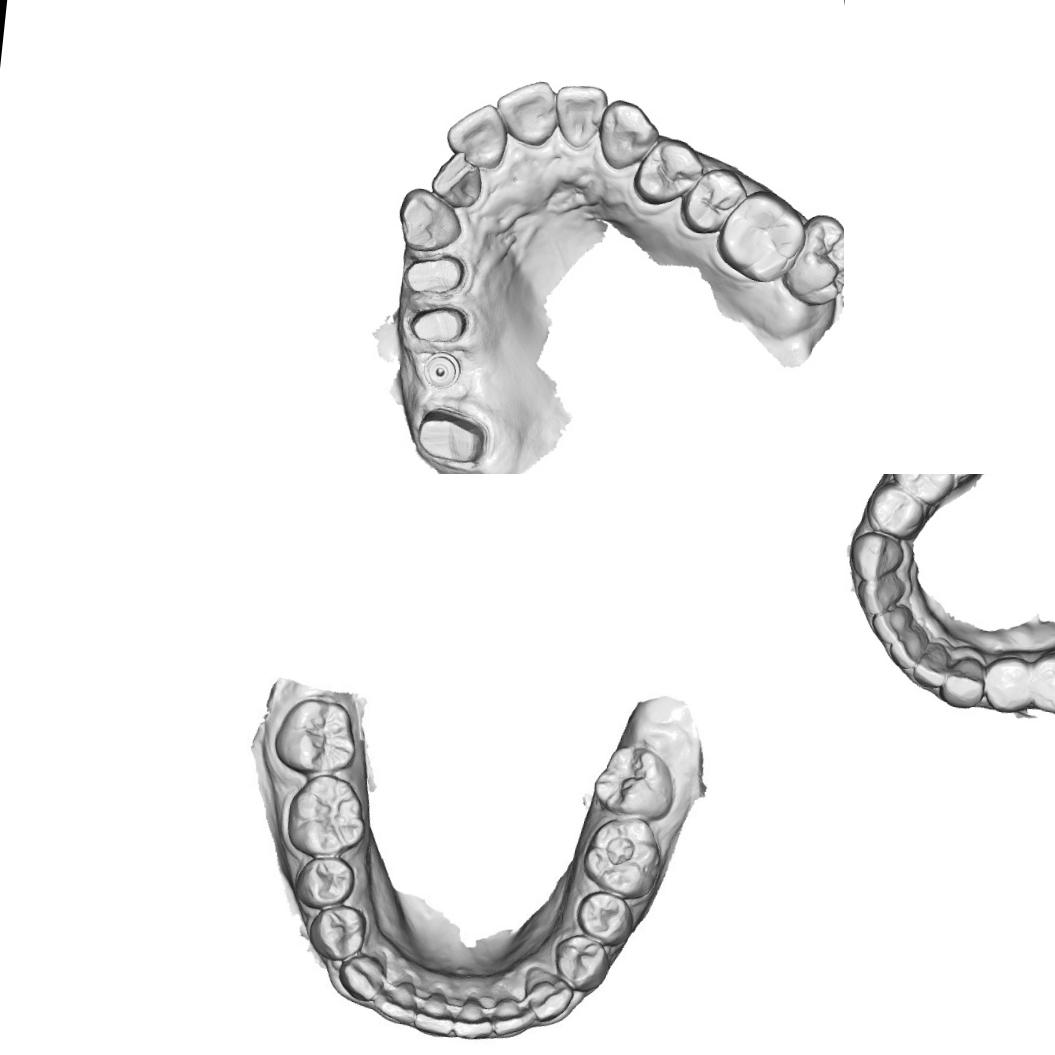canine: (594, 95, 665, 174), (394, 185, 467, 257), (846, 528, 907, 584), (938, 652, 988, 712), (527, 967, 571, 1019), (340, 950, 388, 996)
crown: (409, 401, 499, 471), (398, 247, 474, 302), (406, 296, 476, 351)
implant: (420, 349, 464, 393)
incisor: (491, 75, 562, 150), (442, 98, 512, 171), (550, 80, 611, 152), (426, 146, 487, 210), (375, 975, 424, 1028), (854, 572, 907, 619), (868, 600, 916, 648), (452, 990, 495, 1040), (888, 622, 931, 672), (490, 990, 532, 1041), (910, 639, 951, 690), (414, 988, 457, 1034)
molar: (710, 185, 810, 287), (280, 769, 372, 860), (272, 693, 358, 779), (587, 815, 670, 903), (777, 207, 844, 312), (588, 742, 674, 820)
premolar: (630, 134, 708, 209), (676, 163, 751, 240), (303, 898, 370, 964), (862, 479, 929, 542), (296, 852, 358, 910), (980, 652, 1034, 716), (572, 888, 629, 944), (558, 935, 612, 986), (887, 474, 958, 508), (1025, 648, 1055, 716)
